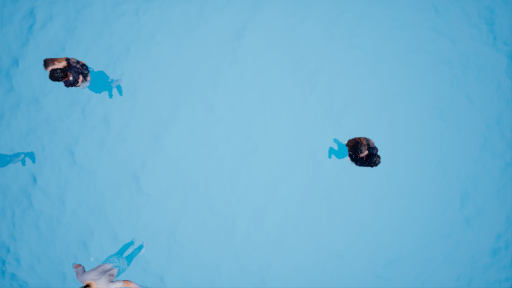person: (57, 246, 172, 288), (46, 54, 131, 106), (325, 135, 383, 177)
